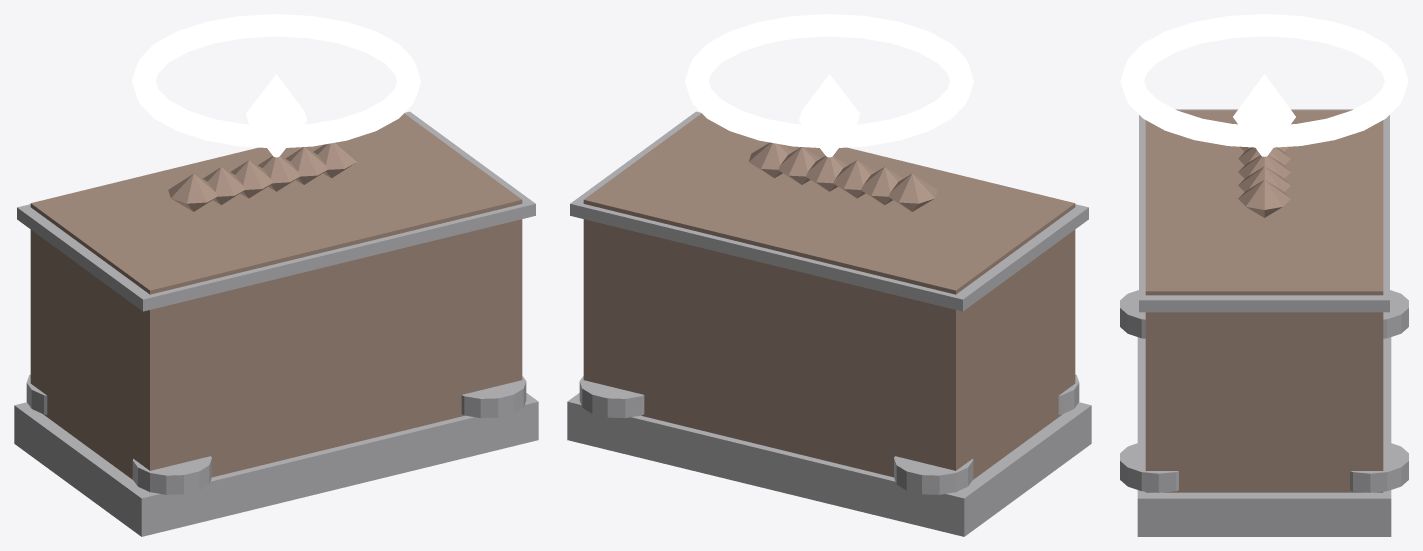
Rendered from ore_cart_divine.glb.
3 views of the same model, side by side, from view 1: azimuth 30°, elevation 25°; view 2: azimuth 150°, elevation 25°; view 3: azimuth 270°, elevation 25° (orthographic).
Visible parts, largest first — view 1: ore_cart; view 2: ore_cart; view 3: ore_cart.
Part boxes in pixels (box(x1,y1,x2,y2)): ore_cart: box(14, 14, 538, 536); ore_cart: box(567, 14, 1091, 536); ore_cart: box(1120, 14, 1408, 536).
Size of the model in its own units: 1.73 by 1.54 by 1.09.
